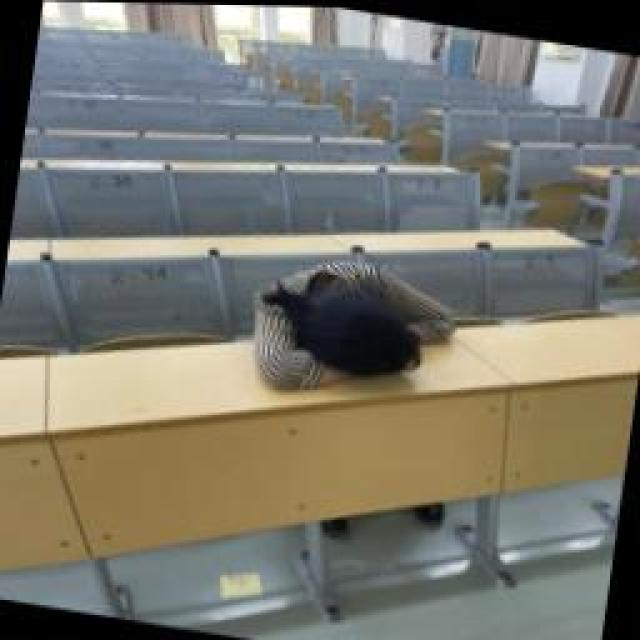sleep: (243, 240, 465, 412)
